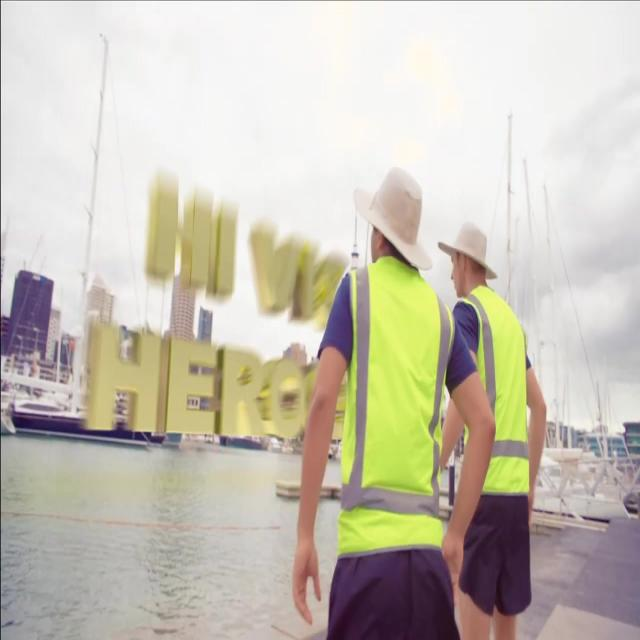Reflective-Jacket: (324, 265, 458, 567), (452, 286, 544, 509)
